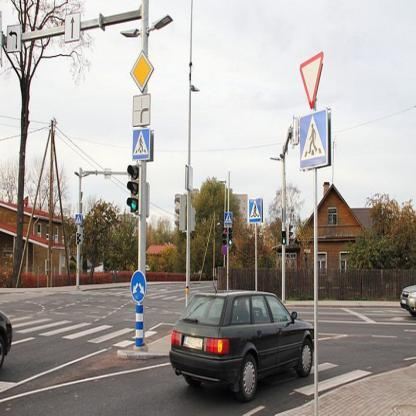road_sign: (299, 107, 328, 168), (300, 51, 323, 109), (130, 51, 154, 92), (132, 128, 151, 160), (132, 95, 151, 126), (130, 270, 147, 303), (64, 14, 80, 43), (6, 25, 21, 52)
traffic light: (126, 165, 140, 213), (282, 231, 286, 245)
